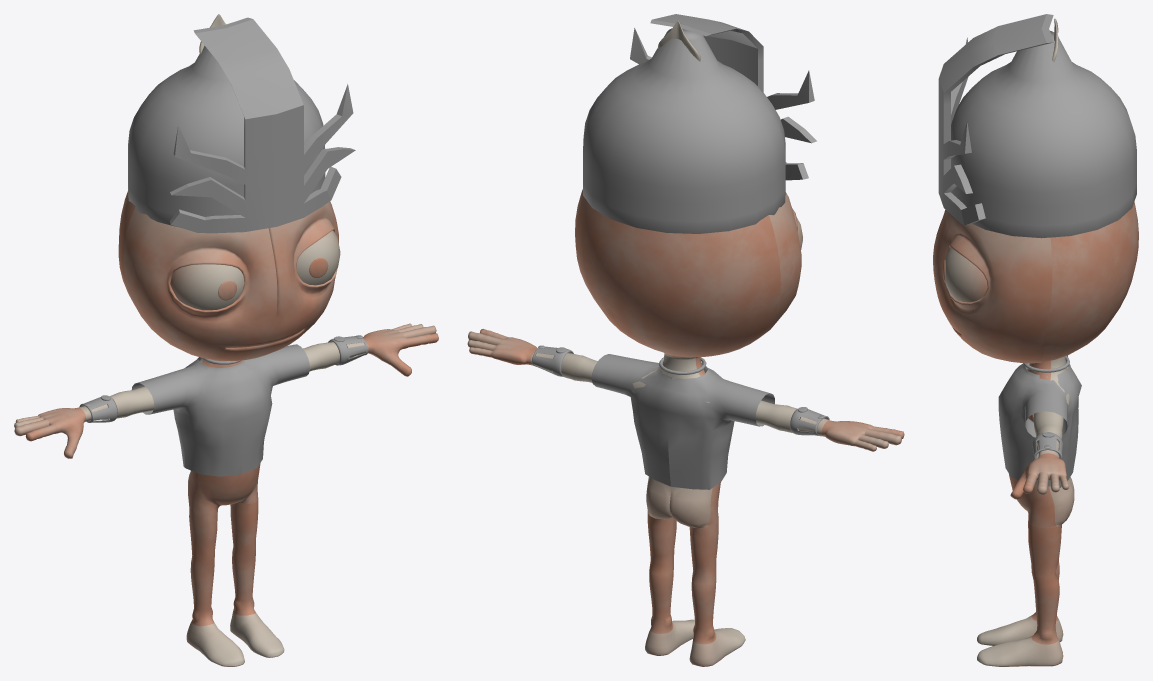
The model's file is SeedProps2.fbx.
3 views of the same model, side by side, from view 1: azimuth 30°, elevation 25°; view 2: azimuth 150°, elevation 25°; view 3: azimuth 270°, elevation 25° (orthographic). The views are drawn at different scales.
Parts seen in each view (by area): view 1: msh_body, polySurface1, polySurface2, Haut, msh_eye_R, msh_eye_L, bracelet1, bracelet2; view 2: msh_body, polySurface2, Haut, polySurface1, bracelet1, bracelet2; view 3: msh_body, polySurface2, polySurface1, Haut, msh_eye_L, bracelet1.
Boxes of the visible parts, <box> form: msh_body: <box>14,191,438,666</box>; polySurface1: <box>170,17,355,233</box>; polySurface2: <box>128,45,325,226</box>; Haut: <box>131,344,309,476</box>; msh_eye_R: <box>170,264,244,310</box>; msh_eye_L: <box>297,230,340,285</box>; bracelet1: <box>328,335,368,365</box>; bracelet2: <box>79,395,117,422</box>; msh_body: <box>467,189,904,666</box>; polySurface2: <box>583,28,785,233</box>; Haut: <box>591,354,774,489</box>; polySurface1: <box>630,14,816,180</box>; bracelet1: <box>531,345,573,376</box>; bracelet2: <box>790,407,829,435</box>; msh_body: <box>933,202,1138,666</box>; polySurface2: <box>951,31,1136,238</box>; polySurface1: <box>938,14,1053,225</box>; Haut: <box>998,355,1081,487</box>; msh_eye_L: <box>945,247,987,302</box>; bracelet1: <box>1032,432,1063,459</box>.
Bounding box in the file's own units: 27.31 × 38.5 × 11.37.
Materials: 3 (2 with a texture image).
